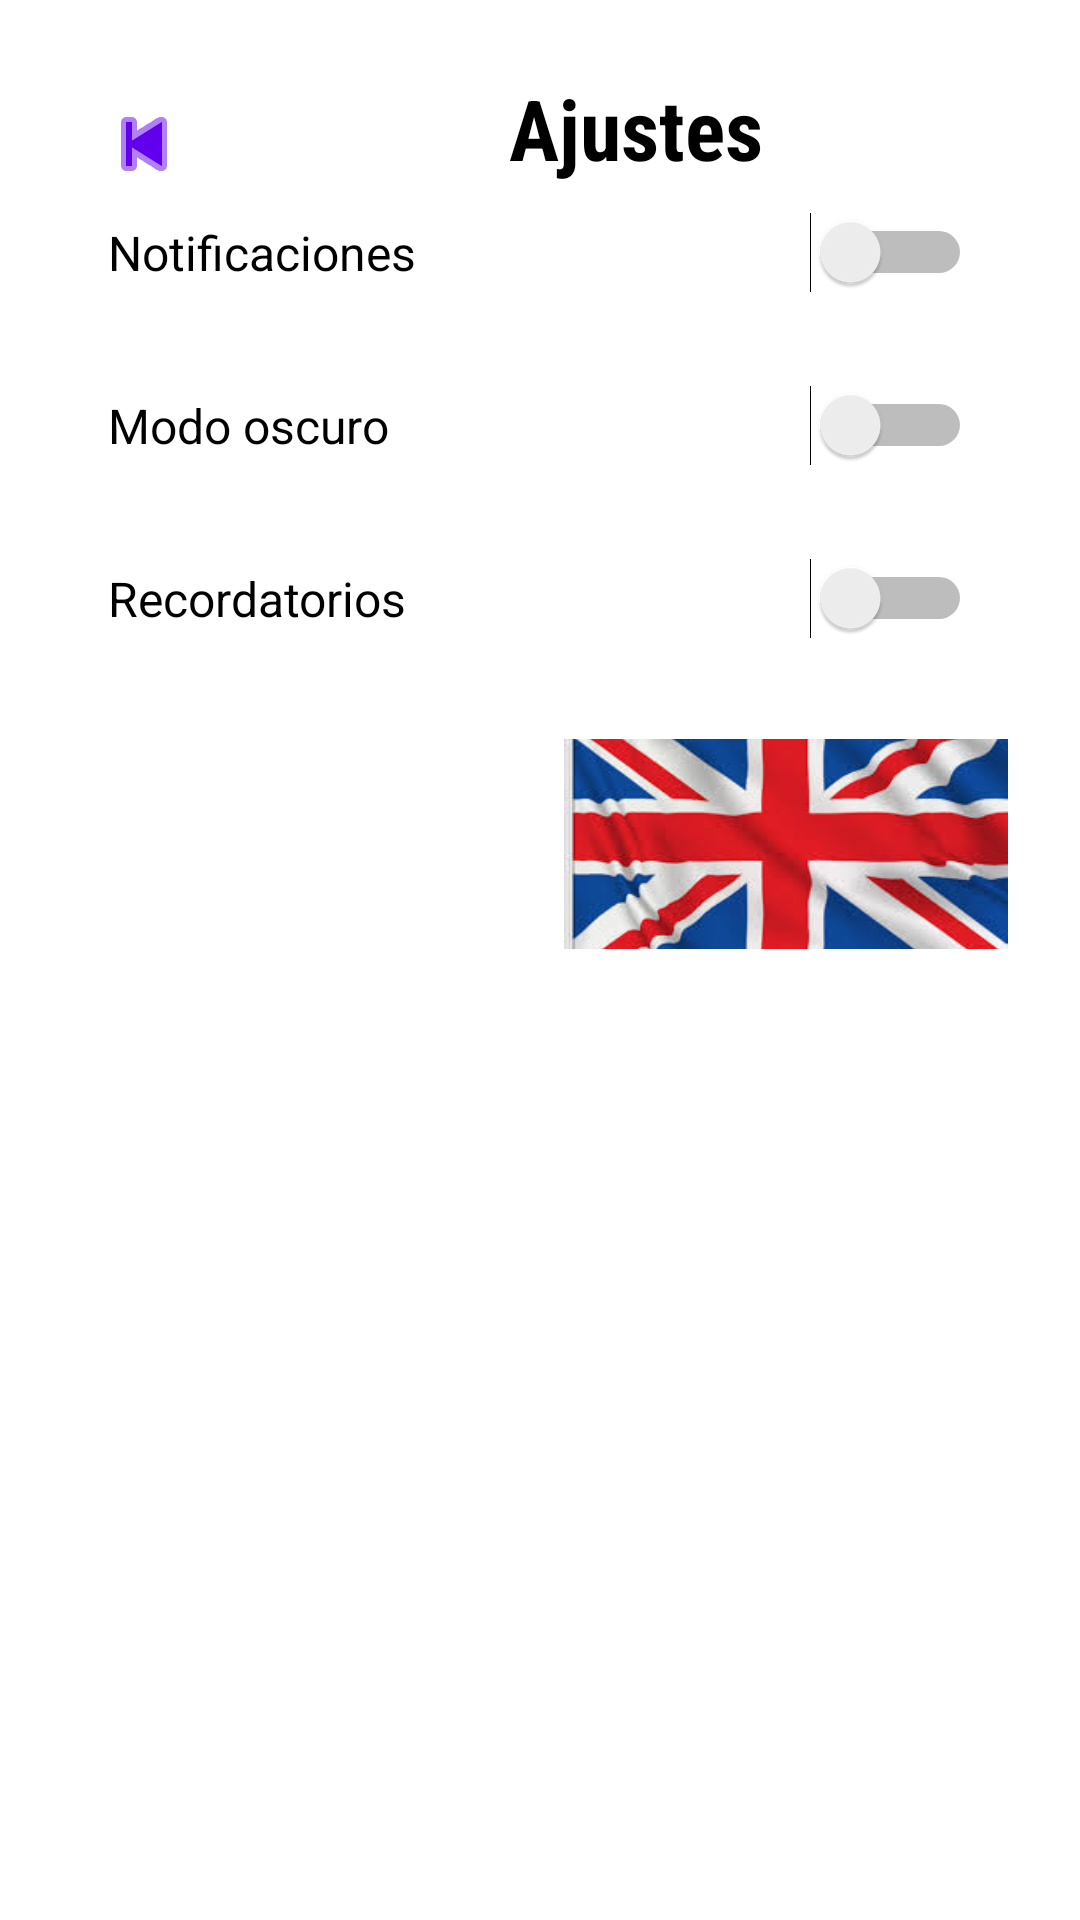

Locate icon controls on the screen. Image size 1080px×1920px, boxes as (x1, y1, x2, y2).
Volver: (121, 117, 167, 171)
